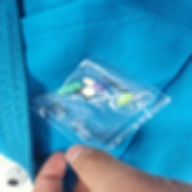러키펜정: (81, 86, 96, 99)
씨엠지세파클러캡슐: (82, 77, 104, 90)
에르도캡슐: (57, 82, 83, 96)
휴티렌정: (117, 93, 133, 106)
